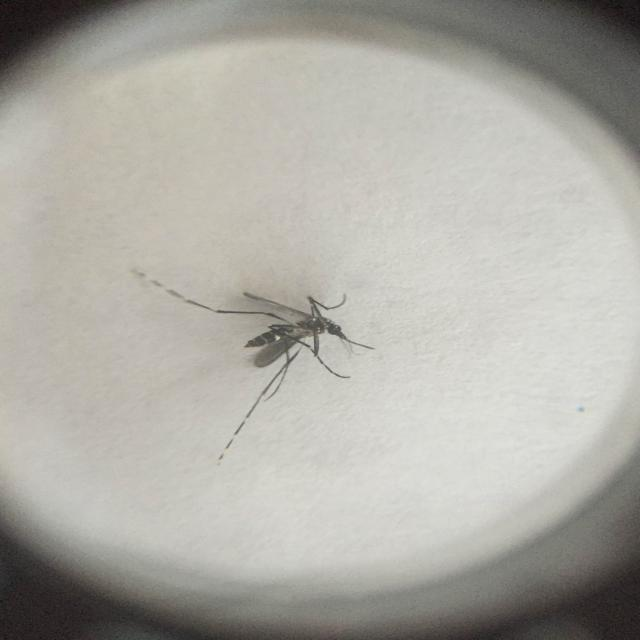albopictus: (137, 263, 375, 462)
